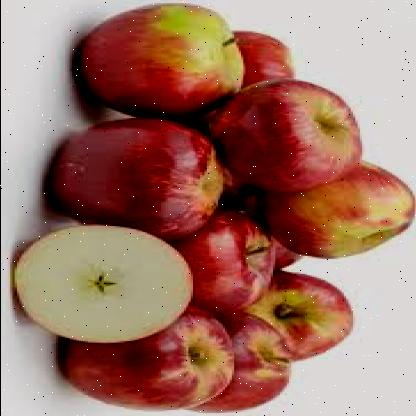apple: (55, 120, 224, 235), (73, 9, 231, 117), (258, 156, 416, 260), (206, 86, 356, 192), (69, 316, 226, 408), (170, 214, 286, 307), (194, 312, 300, 408), (238, 266, 356, 352), (214, 25, 309, 107)
damaged_apple: (20, 228, 190, 344)
